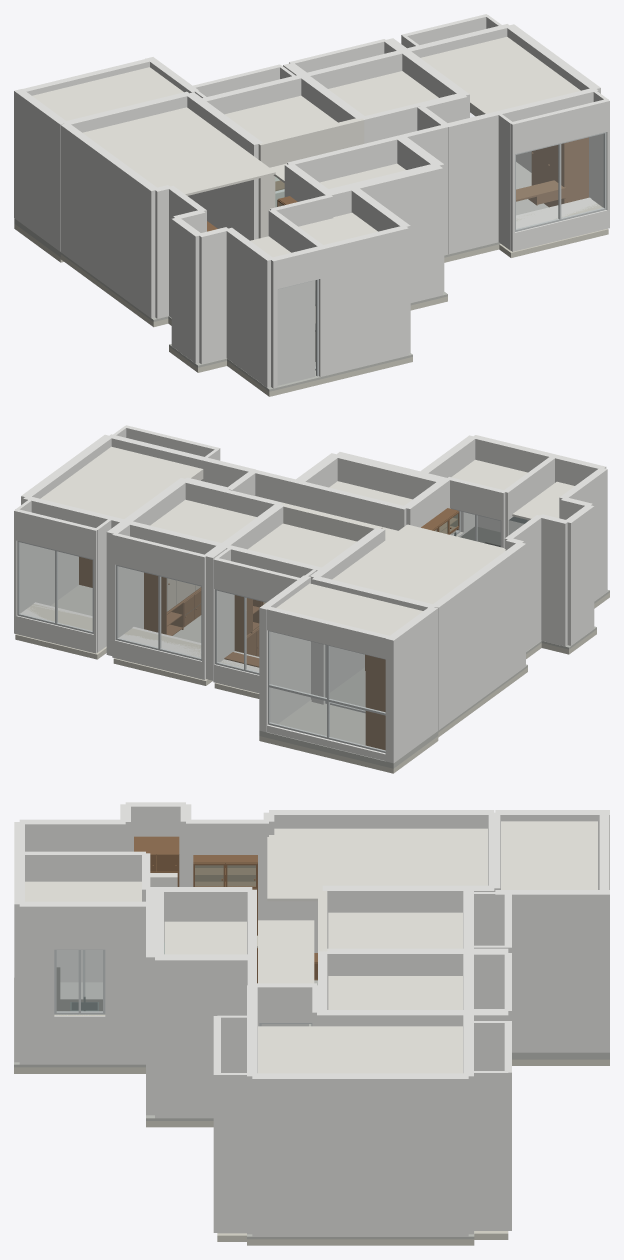
Rendered from MYM-02-全景校正版.glb.
The picture shows the model from 3 angles, top to bottom: view 1: azimuth 30°, elevation 25°; view 2: azimuth 150°, elevation 25°; view 3: azimuth 270°, elevation 25°; orthographic projection. The views are drawn at different scales.
Visible parts, largest first — view 1: W-living-west-jamb-0, W-kitchen-exterior-south-jamb-0, C-panel-living, W-bay-master-bottom-room-jamb-0, W-balcony-left-jamb-0, C-panel-master, W-entry-west-jamb-0, W-bathroom-south-jamb-3, W-bedroom1-west-jamb-0, C-panel-balcony, W-west-niche-jamb-0, D-entry-leaf (+55 smaller); view 2: W-living-west-jamb-0, C-panel-living, W-balcony-left-jamb-0, C-panel-master, WIN-balcony-glass-b, WIN-balcony-glass-a, W-balcony-right-jamb-0, C-panel-balcony, W-west-niche-jamb-0, W-west-return-jamb-0, W-master-east-jamb-0, FIN-balcony-pending (+70 smaller); view 3: W-master-east-jamb-0, W-balcony-right-jamb-0, C-panel-living, W-bathroom-east-jamb-0, C-panel-master, W-kitchen-exterior-east-jamb-0, C-panel-balcony, W-kitchen-exterior-east-jamb-3, W-bay-master-top-right-jamb-0, W-living-west-jamb-0, W-bay-master-bottom-right-jamb-0, W-entry-west-jamb-0 (+47 smaller).
Part boxes in pixels (x1,y1,x2,y2): W-living-west-jamb-0: (60, 124, 157, 318); W-kitchen-exterior-south-jamb-0: (321, 225, 408, 375); C-panel-living: (85, 107, 275, 195); W-bay-master-bottom-room-jamb-0: (445, 111, 499, 254); W-balcony-left-jamb-0: (14, 89, 65, 251); C-panel-master: (425, 37, 580, 113); W-entry-west-jamb-0: (226, 227, 273, 387); W-bathroom-south-jamb-3: (390, 164, 442, 302); W-bedroom1-west-jamb-0: (187, 92, 262, 240); C-panel-balcony: (32, 67, 183, 119); W-west-niche-jamb-0: (171, 217, 202, 363); D-entry-leaf: (277, 280, 315, 385); W-living-west-jamb-0: (432, 542, 525, 730); C-panel-living: (332, 524, 505, 603); W-balcony-left-jamb-0: (385, 606, 438, 763); C-panel-master: (40, 446, 202, 517); WIN-balcony-glass-b: (269, 632, 326, 736); WIN-balcony-glass-a: (329, 646, 385, 750); W-balcony-right-jamb-0: (259, 575, 310, 732); C-panel-balcony: (276, 583, 422, 635); W-west-niche-jamb-0: (566, 504, 594, 645); W-west-return-jamb-0: (538, 514, 569, 646); W-master-east-jamb-0: (21, 434, 113, 605); FIN-balcony-pending: (259, 699, 438, 768); W-master-east-jamb-0: (252, 1073, 468, 1236); W-balcony-right-jamb-0: (495, 890, 609, 1052); C-panel-living: (267, 828, 487, 901); W-bathroom-east-jamb-0: (155, 954, 251, 1118); C-panel-master: (258, 1026, 462, 1073); W-kitchen-exterior-east-jamb-0: (105, 901, 145, 1064); C-panel-balcony: (501, 821, 597, 889); W-kitchen-exterior-east-jamb-3: (19, 901, 54, 1064); W-bay-master-top-right-jamb-0: (468, 1071, 508, 1230); W-living-west-jamb-0: (269, 810, 494, 952); W-bay-master-bottom-right-jamb-0: (217, 1073, 251, 1233); W-entry-west-jamb-0: (19, 819, 125, 982).
Bounding box in the file's own units: 11.08 × 3.2 × 10.08.
